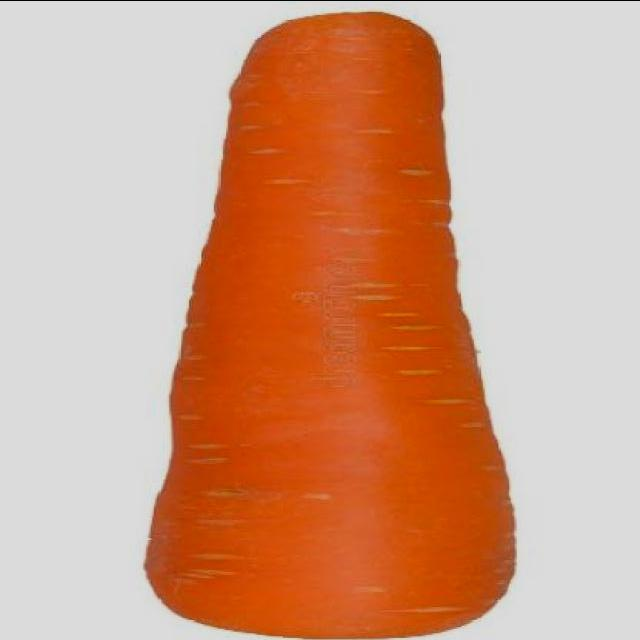carrot: (130, 4, 541, 640)
